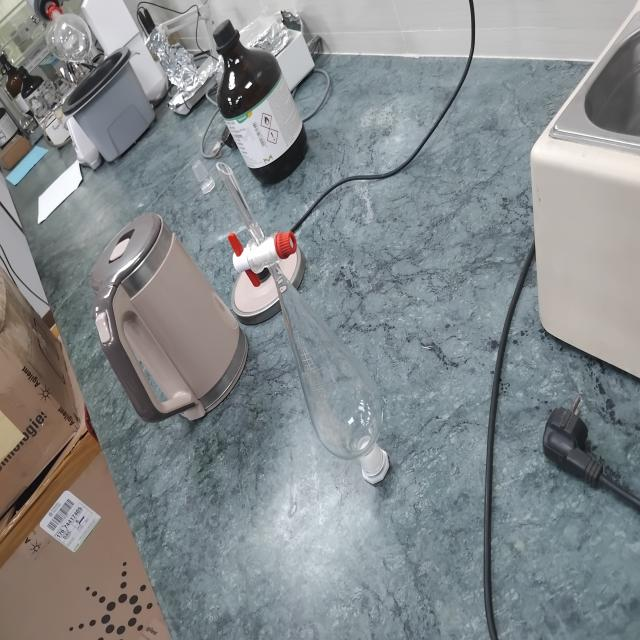Separating_Funnel: (197, 127, 419, 528)
